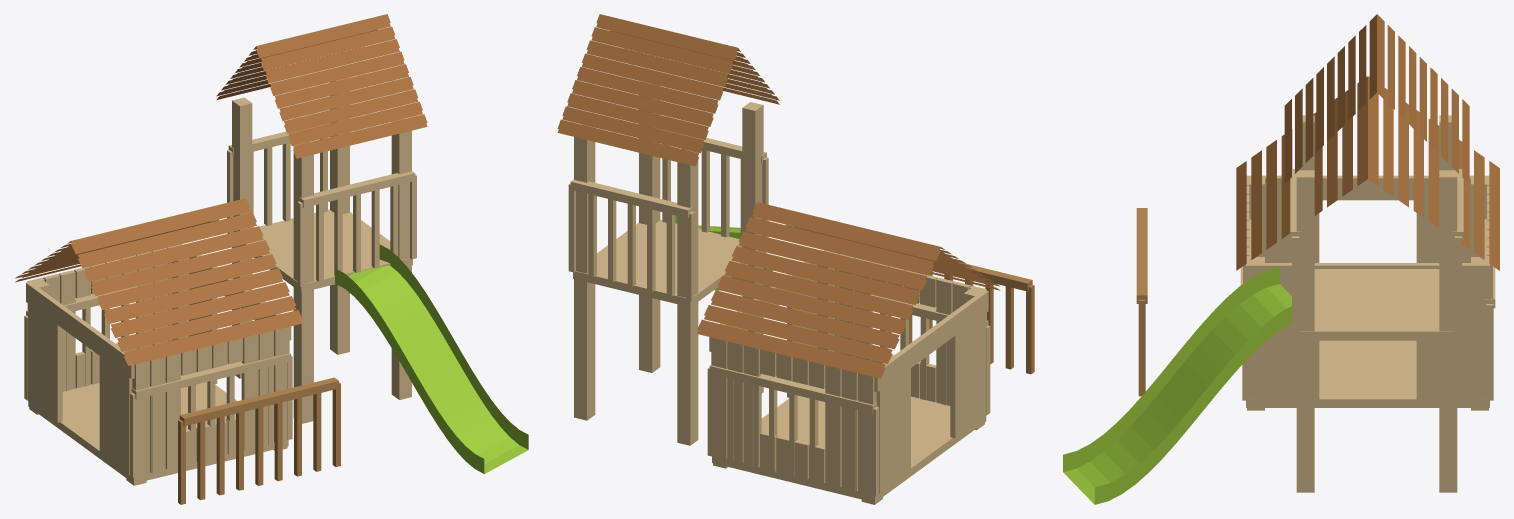
3 renders of one model, left to right at view 1: azimuth 30°, elevation 25°; view 2: azimuth 150°, elevation 25°; view 3: azimuth 270°, elevation 25°, orthographic. The views are drawn at different scales.
Visible parts, largest first — view 1: SW-Y306; view 2: SW-Y306; view 3: SW-Y306.
Boxes of the visible parts, bbox=[...] form: SW-Y306: bbox=[15, 14, 528, 504]; SW-Y306: bbox=[557, 14, 1034, 504]; SW-Y306: bbox=[1063, 14, 1499, 504].
Bounding box in the file's own units: 2.8 × 2.8 × 2.7.
